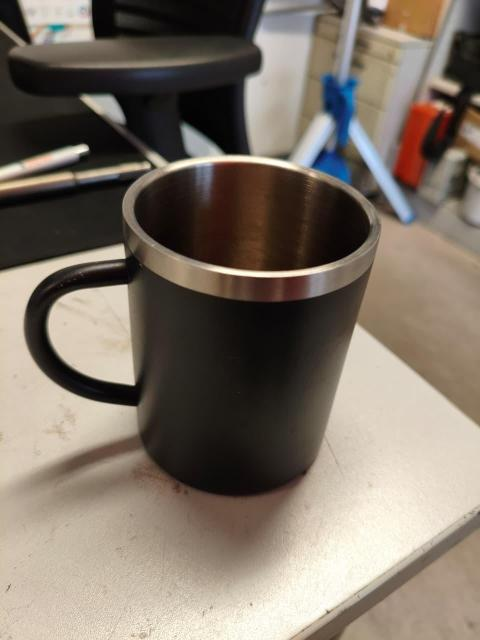Metal: (20, 153, 393, 492)
